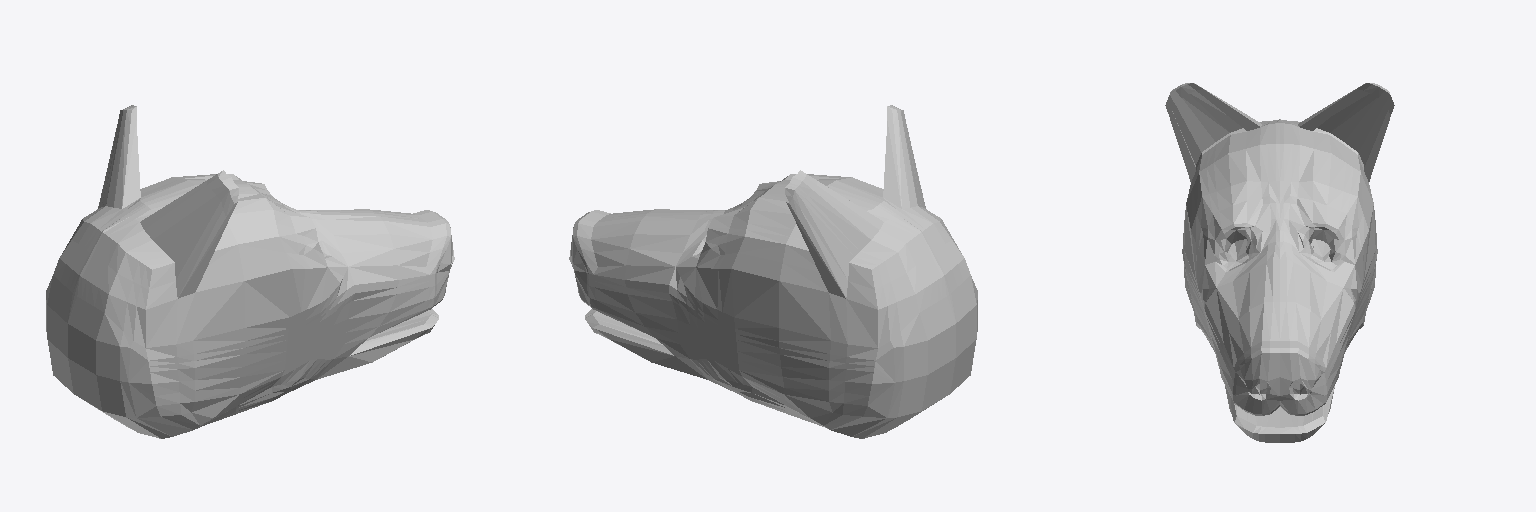
The model's file is dog_head.obj.
The picture shows the model from 3 angles: view 1: azimuth 30°, elevation 25°; view 2: azimuth 150°, elevation 25°; view 3: azimuth 270°, elevation 25°; orthographic projection.
Visible parts, largest first — view 1: dog.001_Cube.000; view 2: dog.001_Cube.000; view 3: dog.001_Cube.000.
Boxes of the visible parts, x1=… form: dog.001_Cube.000: x1=46, y1=105, x2=454, y2=438; dog.001_Cube.000: x1=569, y1=105, x2=977, y2=438; dog.001_Cube.000: x1=1165, y1=83, x2=1394, y2=442.
Bounding box in the file's own units: 2.04 × 1.41 × 1.08.